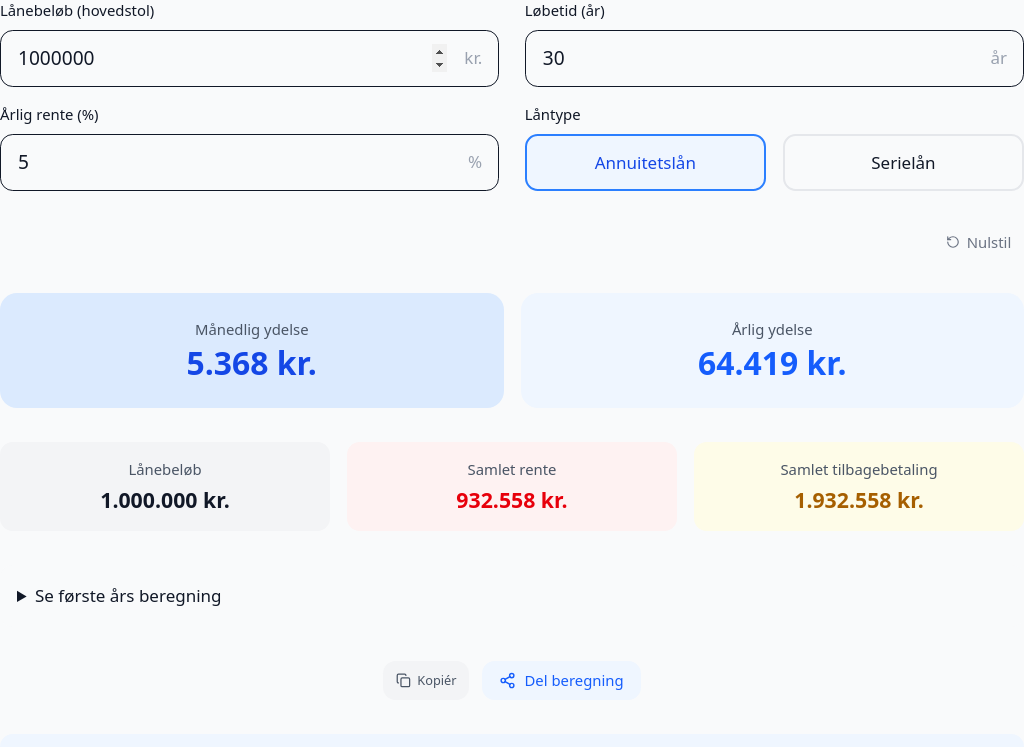
it: LaanebeloebTabel › serielån forklarer, at ydelsen er den første måneds
Expected: the text "Månedsydelsen er ved et serielån" is not shown
Click the button "Serielån" at point(903, 163), box [783,134,1023,191]
(page scrolled)
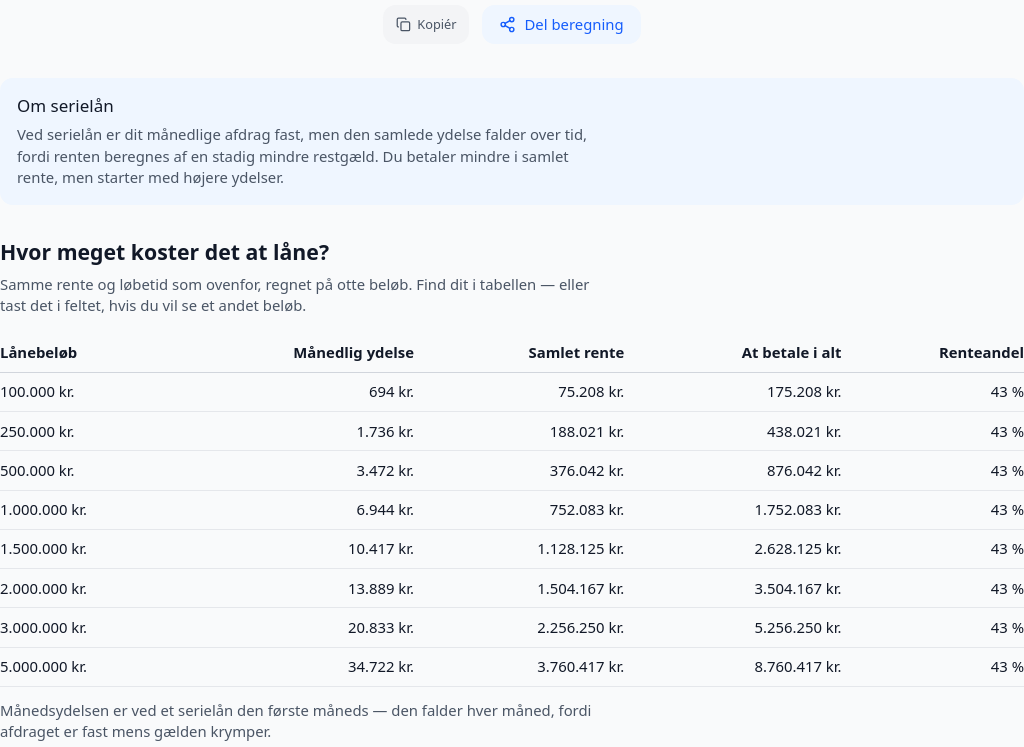
Now the text "Månedsydelsen er ved et serielån den første måneds" is shown, box [0,700,591,741]
